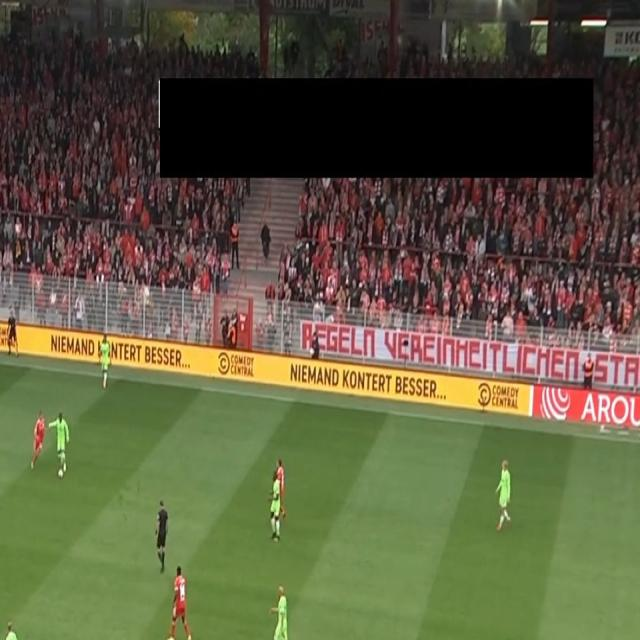ball: (56, 466, 65, 480)
